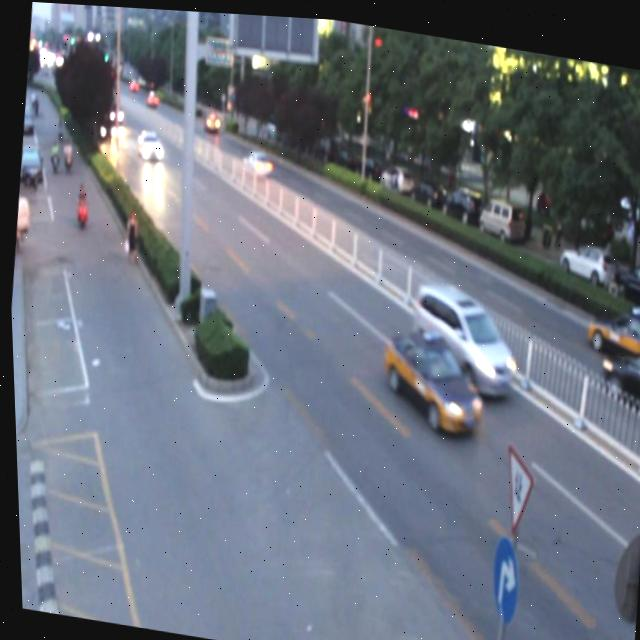car: (405, 274, 518, 397), (375, 319, 485, 435), (580, 292, 640, 358), (595, 337, 640, 411), (238, 144, 271, 175), (135, 125, 162, 160)
